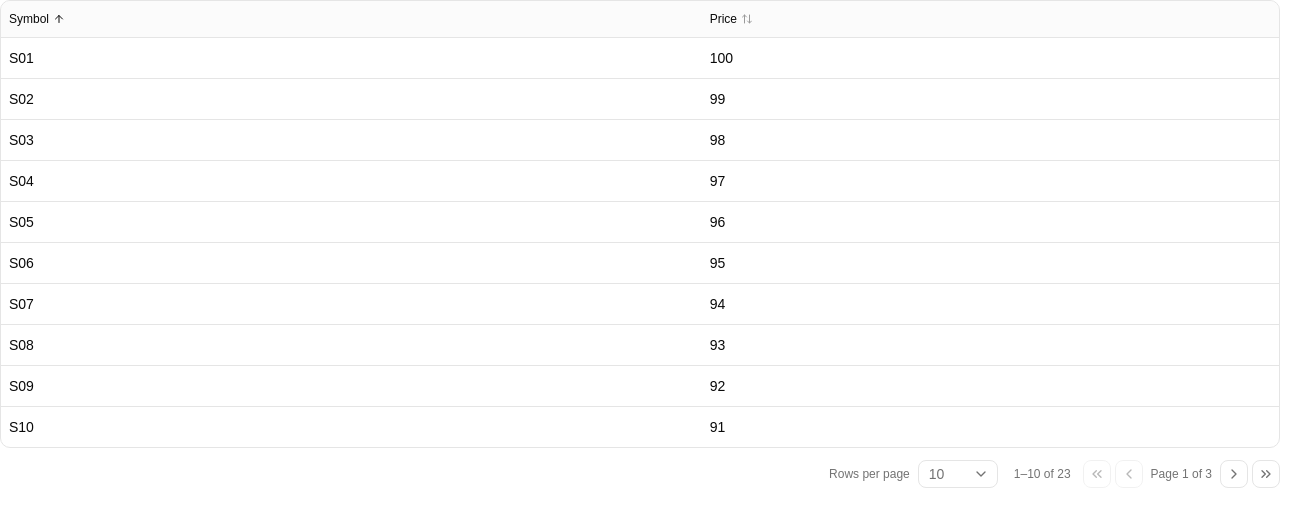
Test: DataTable paging › pages the sorted rows and says which rows are shown
Expected: the text "1–10 of 23" is shown, [1014,466,1071,482]
Expected: the text "Page 1 of 3" is shown, [1147,466,1216,482]
Click the button named "Next page" at (1234,474), box [1220,460,1248,488]
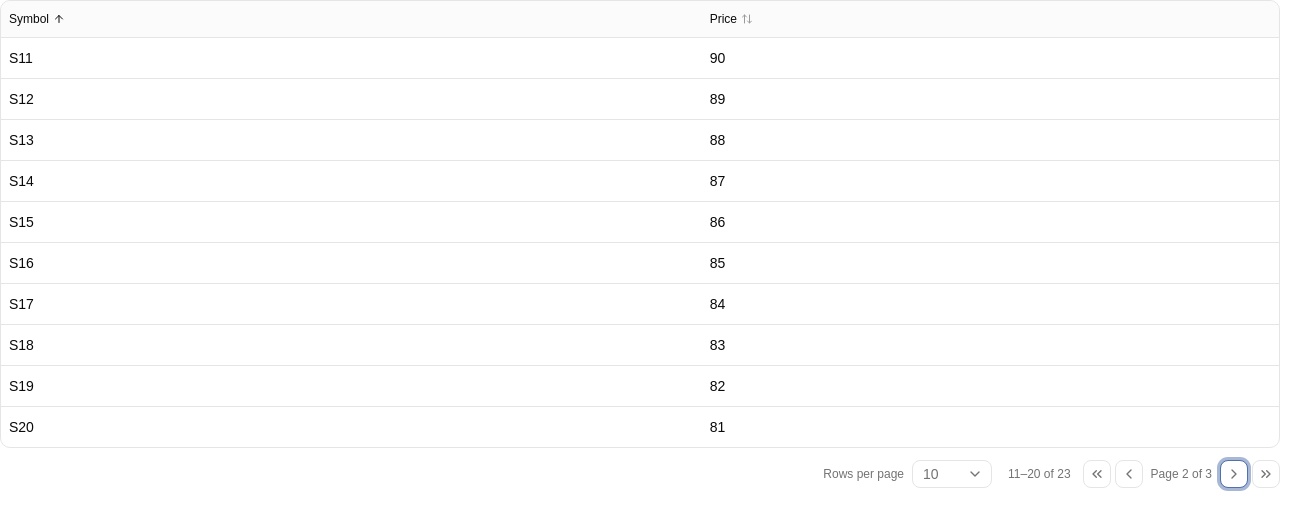
Click the button named "Next page" at (1234,474), box [1220,460,1248,488]
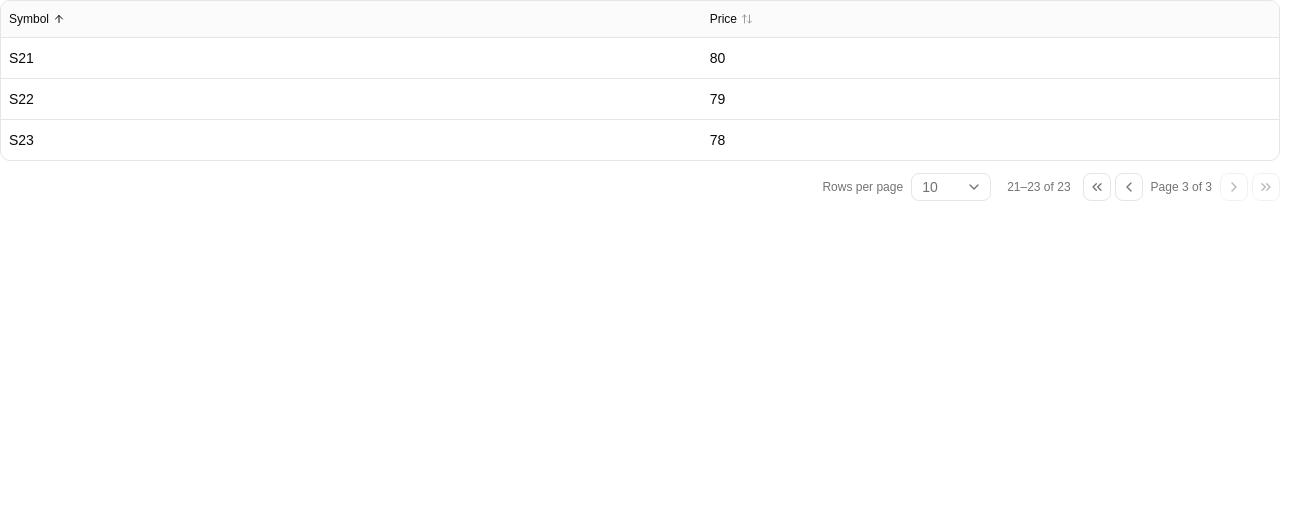
Expected: the text "21–23 of 23" is shown, [1007,178,1071,194]
